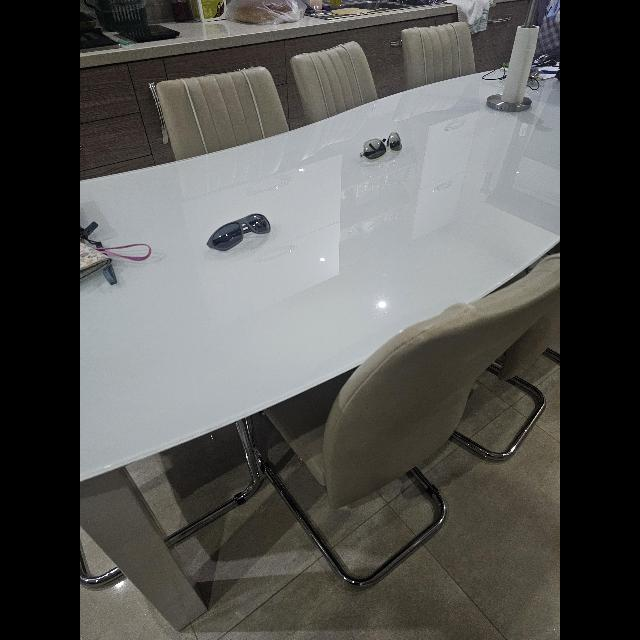Sunglasses: (206, 213, 270, 250), (360, 132, 402, 162)
